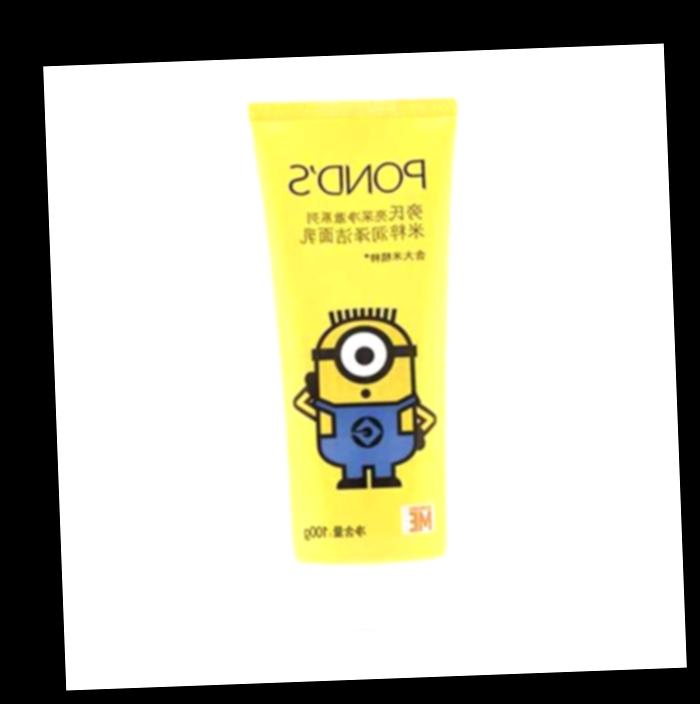cosmetic: (242, 97, 482, 657)
